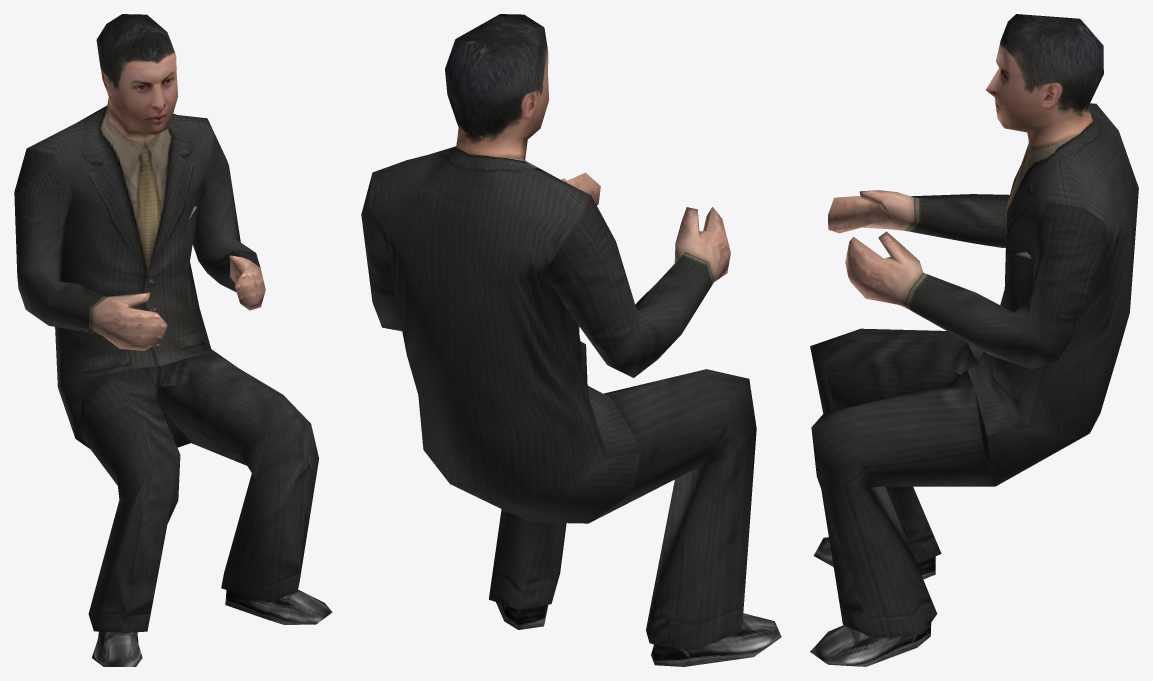
Rendered from Man02.glb.
The picture shows the model from 3 angles, left to right: view 1: azimuth 30°, elevation 25°; view 2: azimuth 150°, elevation 25°; view 3: azimuth 270°, elevation 25°; orthographic projection. The views are drawn at different scales.
Visible parts, largest first — view 1: business02_m_lowpoly_网格_business02_m_lowpoly_网格mesh.002; view 2: business02_m_lowpoly_网格_business02_m_lowpoly_网格mesh.002; view 3: business02_m_lowpoly_网格_business02_m_lowpoly_网格mesh.002.
Boxes of the visible parts, x1,y1,x2,y2 form: business02_m_lowpoly_网格_business02_m_lowpoly_网格mesh.002: (14,14,332,666); business02_m_lowpoly_网格_business02_m_lowpoly_网格mesh.002: (361,14,781,666); business02_m_lowpoly_网格_business02_m_lowpoly_网格mesh.002: (810,14,1138,666).
Size of the model in its own units: 0.6134 by 1.37 by 0.6787.
1 material, 1 textured.
